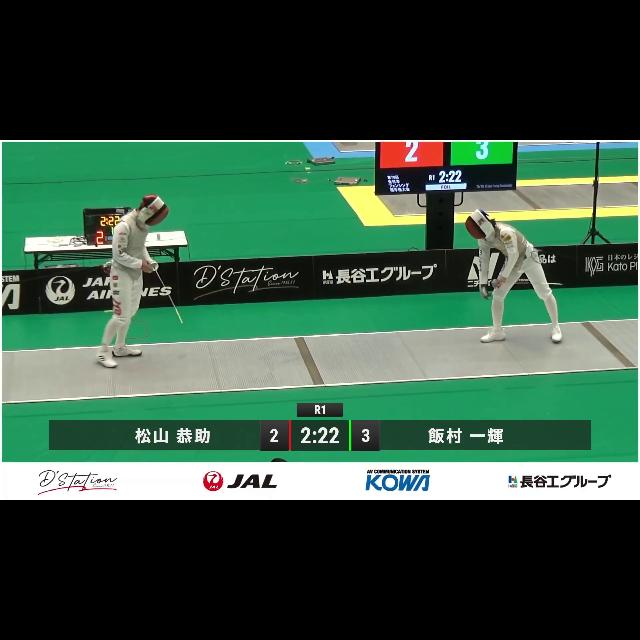blade: (147, 261, 190, 327), (487, 275, 568, 289)
